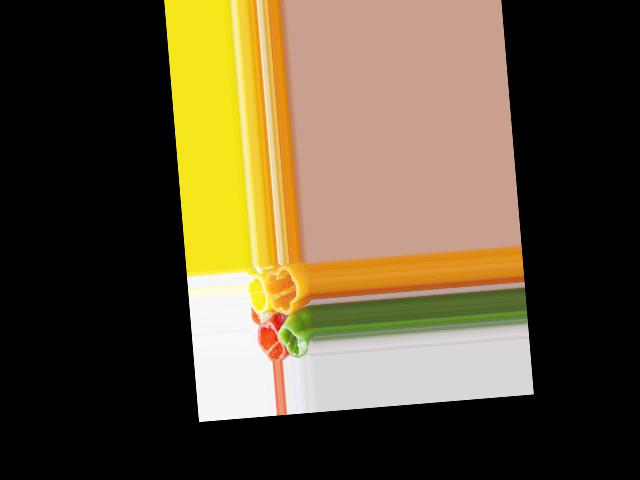bell_pepper: (255, 319, 284, 360)
